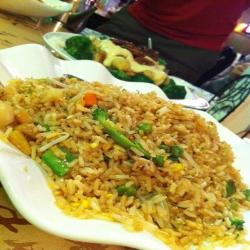rice: (3, 80, 250, 244)
